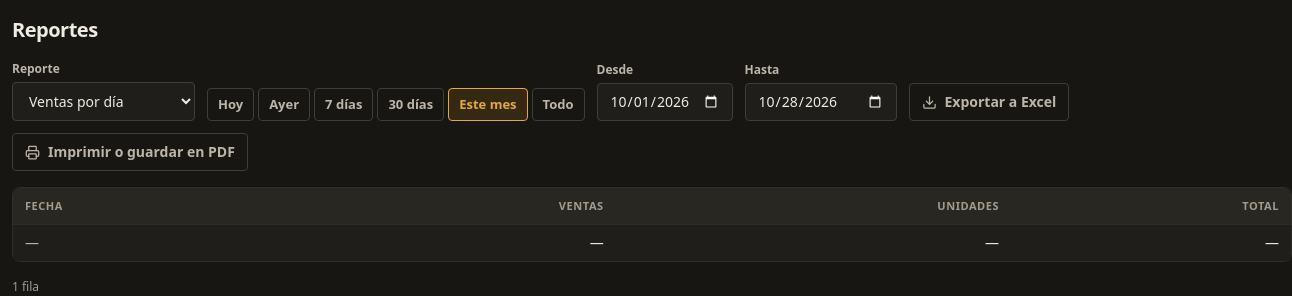
Test: cómo se muestran los números › pone el signo del negativo antes del peso, no después
The width and height of the screenshot is (1292, 296).
(page scrolled)
expect the heading "Reportes" is shown: met, box [12,16,98,43]
Select "Cierres de caja" in the dropdown labelled "Reporte". click: (104,102)
box: [12,82,195,121]
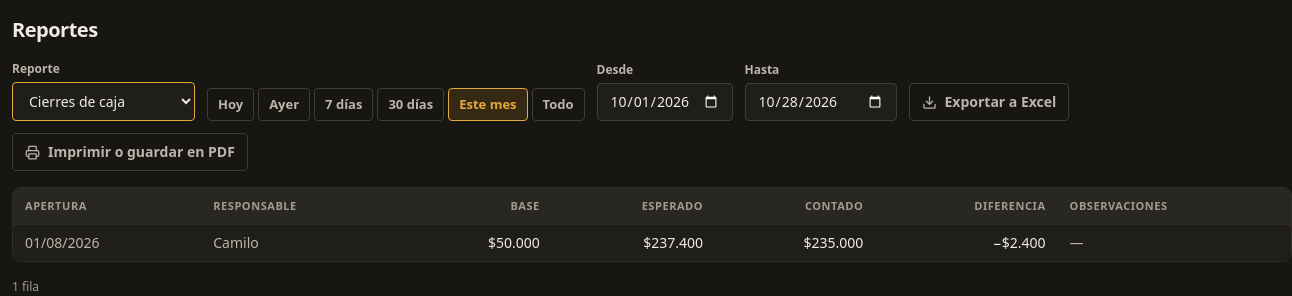
expect the column heading "Diferencia" is shown: met, box [875,188,1058,224]
expect the text "−$2.400" is shown: met, box [875,224,1058,261]
